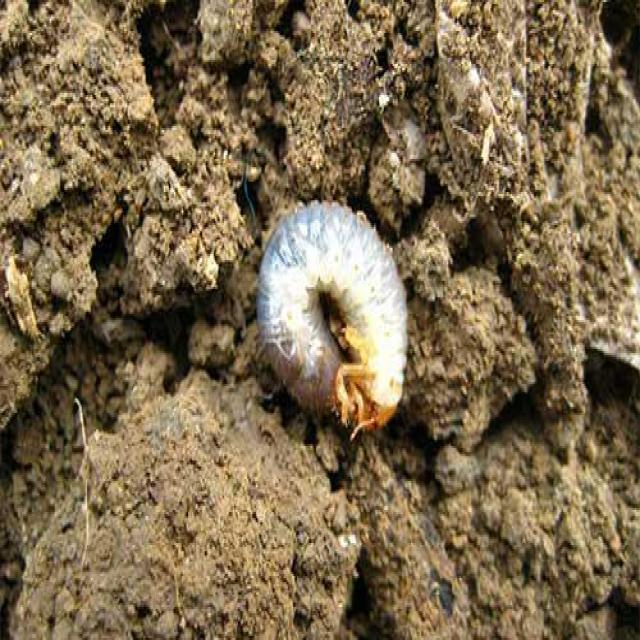Grub-Adult-: (249, 201, 416, 434)
